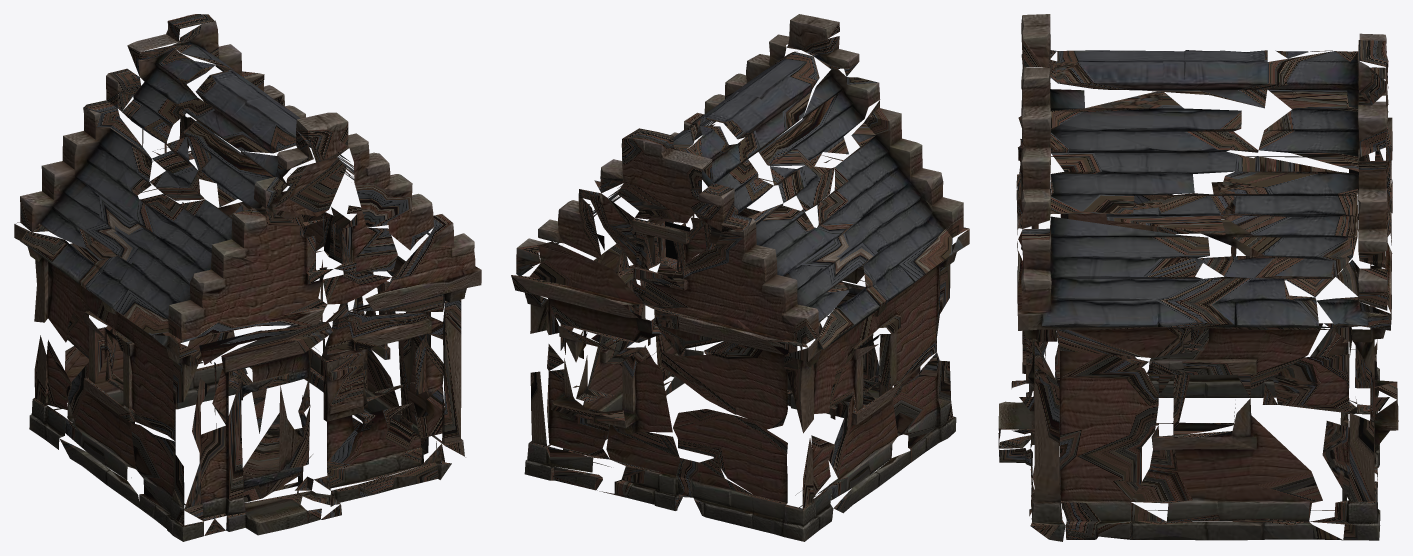
Rendered from bld_house_npc_f_a_LOD1.glb.
3 views of the same model, side by side, from view 1: azimuth 30°, elevation 25°; view 2: azimuth 150°, elevation 25°; view 3: azimuth 270°, elevation 25° (orthographic). The views are drawn at different scales.
Visible parts, largest first — view 1: geometry_0; view 2: geometry_0; view 3: geometry_0.
Boxes of the visible parts, x1=… form: geometry_0: x1=14, y1=14, x2=481, y2=541; geometry_0: x1=511, y1=14, x2=969, y2=541; geometry_0: x1=998, y1=14, x2=1398, y2=541.
Size of the model in its own units: 4.66 by 5.5 by 4.54.
1 material, 1 textured.
